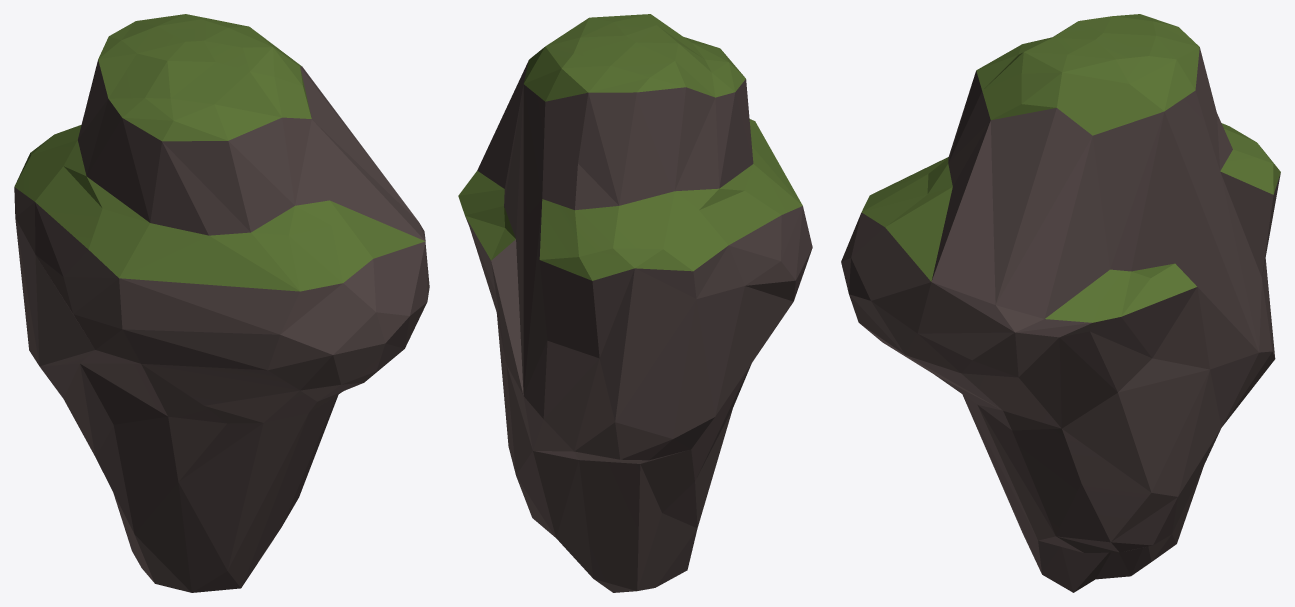
Rendered from DarkRockFloorMediumFloatingIsland1.fbx.
3 renders of one model, left to right at view 1: azimuth 30°, elevation 25°; view 2: azimuth 150°, elevation 25°; view 3: azimuth 270°, elevation 25°, orthographic.
Visible parts, largest first — view 1: DarkSoil, LightVegetation; view 2: DarkSoil, LightVegetation; view 3: DarkSoil, LightVegetation.
Part boxes in pixels (x1,y1,x2,y2): DarkSoil: (14, 59, 429, 592); LightVegetation: (14, 14, 425, 291); DarkSoil: (465, 60, 812, 592); LightVegetation: (458, 14, 802, 280); DarkSoil: (841, 47, 1280, 592); LightVegetation: (861, 14, 1280, 322).
Size of the model in its own units: 15.45 by 24.16 by 17.82.
